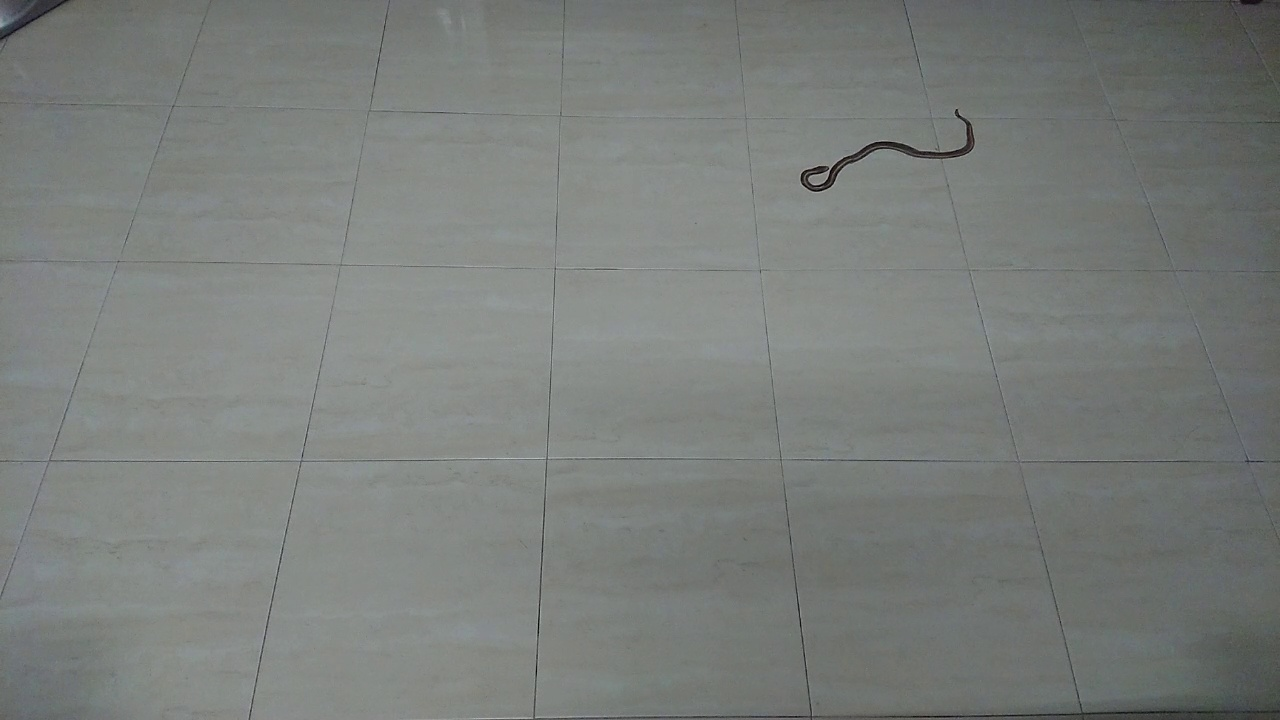snake: (783, 96, 985, 204)
